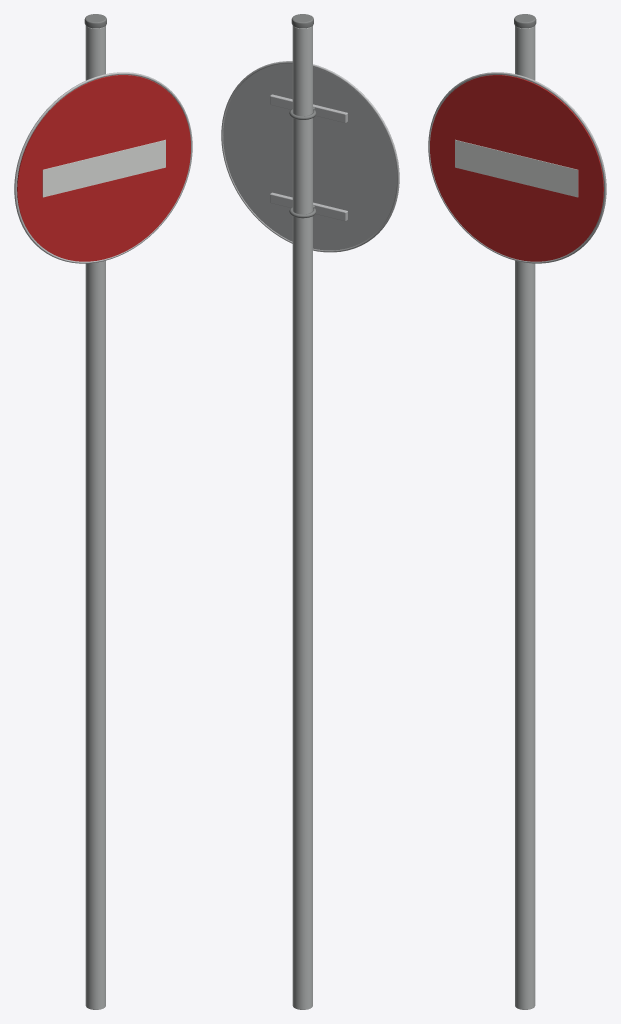
File: city-no-entry-sign-post.glb
3 renders of one model, left to right at view 1: azimuth 30°, elevation 25°; view 2: azimuth 150°, elevation 25°; view 3: azimuth 330°, elevation 25°, orthographic.
Visible parts, largest first — view 1: Assembly | Red retroreflective sheeting, Assembly | Galvanized sign pole, Assembly | White retroreflective sheeting, Assembly | Aluminium sign back; view 2: Assembly | Aluminium sign back, Assembly | Galvanized sign pole, Assembly | Clamp steel; view 3: Assembly | Red retroreflective sheeting, Assembly | Galvanized sign pole, Assembly | White retroreflective sheeting, Assembly | Aluminium sign back.
Boxes of the visible parts, box(x1,y1,x2,y2) form: Assembly | Red retroreflective sheeting: box(17, 75, 190, 261); Assembly | Galvanized sign pole: box(85, 26, 105, 1009); Assembly | White retroreflective sheeting: box(42, 139, 165, 197); Assembly | Aluminium sign back: box(14, 72, 192, 263); Assembly | Aluminium sign back: box(221, 61, 399, 252); Assembly | Galvanized sign pole: box(292, 26, 312, 1009); Assembly | Clamp steel: box(289, 14, 316, 218); Assembly | Red retroreflective sheeting: box(430, 75, 603, 261); Assembly | Galvanized sign pole: box(515, 26, 535, 1009); Assembly | White retroreflective sheeting: box(455, 139, 578, 197); Assembly | Aluminium sign back: box(428, 72, 606, 263).
Bounding box in the file's own units: 0.608 × 3.22 × 0.0915.
